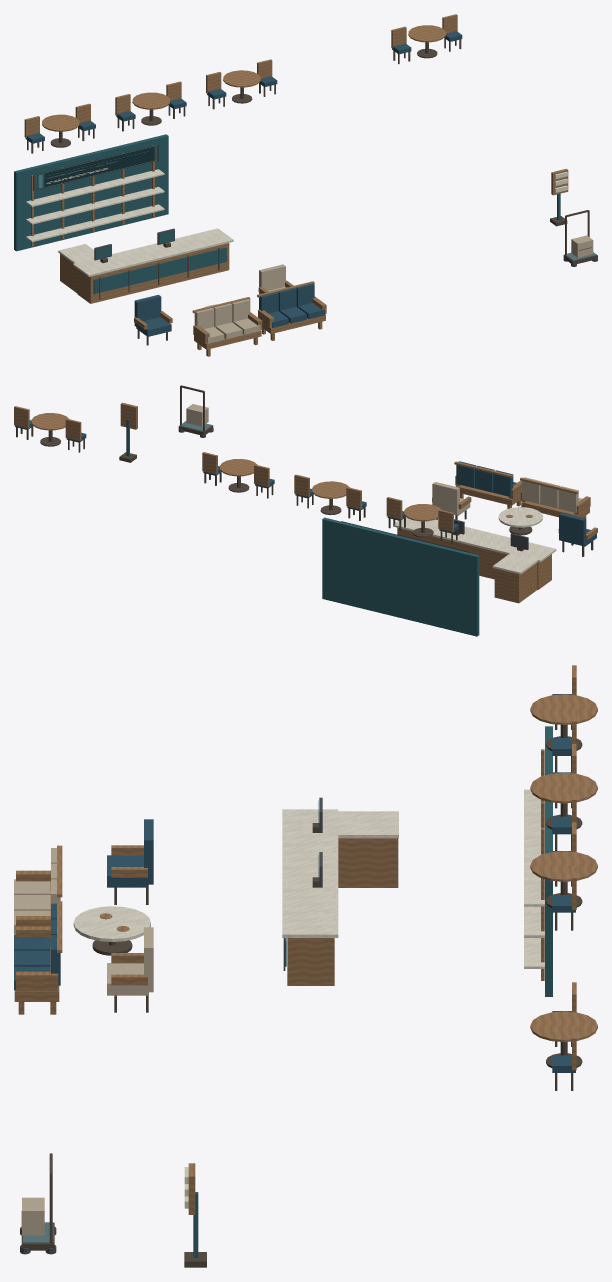
Rendered from PZ_Seaside_Resort_Lobby_Props.glb.
3 renders of one model, top to bottom at view 1: azimuth 30°, elevation 25°; view 2: azimuth 150°, elevation 25°; view 3: azimuth 270°, elevation 25°, orthographic. The views are drawn at different scales.
Parts seen in each view (by area): view 1: RENDER__B02_RECEPTION_BACKBAR_DISPLAY__WallBacker__OceanTeal, RENDER__B01_RECEPTION_DESK_L_MODULAR__MainReceptionCore__Lig, RENDER__B01_RECEPTION_DESK_L_MODULAR__MainReceptionCounterto, RENDER__B02_RECEPTION_BACKBAR_DISPLAY__COVEGLASS_MainBrandPl, RENDER__B01_RECEPTION_DESK_L_MODULAR__CounterFrontInlay__Oce, RENDER__B02_RECEPTION_BACKBAR_DISPLAY__ReceptionShelf_0.72__, RENDER__B02_RECEPTION_BACKBAR_DISPLAY__ReceptionShelf_1.36__, RENDER__B02_RECEPTION_BACKBAR_DISPLAY__ReceptionShelf_2.0__M, RENDER__B01_RECEPTION_DESK_L_MODULAR__ReturnWingCountertop__, RENDER__B05_ACCENT_CHAIR_01__Back__DeepBlueFabric, RENDER__B06_ACCENT_CHAIR_02__Back__SandFabric, RENDER__B08_MEZZ_LOUNGE_TABLE_4__BistroTop__LightOak (+4 smaller); view 2: RENDER__B02_RECEPTION_BACKBAR_DISPLAY__WallBacker__OceanTeal, RENDER__B01_RECEPTION_DESK_L_MODULAR__MainReceptionCounterto, RENDER__B01_RECEPTION_DESK_L_MODULAR__MainReceptionCore__Lig, RENDER__B01_RECEPTION_DESK_L_MODULAR__ReturnWingBody__LightO, RENDER__B01_RECEPTION_DESK_L_MODULAR__ReturnWingCountertop__, RENDER__B05_ACCENT_CHAIR_01__Back__DeepBlueFabric, RENDER__B06_ACCENT_CHAIR_02__Back__SandFabric, RENDER__B07_COFFEE_TABLE_LOW__RoundMarbleTableTop__MarbleCou, RENDER__B08_MEZZ_LOUNGE_TABLE_2__BistroTop__LightOak, RENDER__B08_MEZZ_LOUNGE_TABLE_4__BistroTop__LightOak, RENDER__B08_MEZZ_LOUNGE_TABLE_3__BistroTop__LightOak, RENDER__B08_MEZZ_LOUNGE_TABLE_1__BistroTop__LightOak (+10 smaller); view 3: RENDER__B01_RECEPTION_DESK_L_MODULAR__MainReceptionCounterto, RENDER__B01_RECEPTION_DESK_L_MODULAR__ReturnWingBody__LightO, RENDER__B01_RECEPTION_DESK_L_MODULAR__ReturnWingCountertop__, RENDER__B01_RECEPTION_DESK_L_MODULAR__MainReceptionCore__Lig, RENDER__B07_COFFEE_TABLE_LOW__RoundMarbleTableTop__MarbleCou, RENDER__B02_RECEPTION_BACKBAR_DISPLAY__ReceptionShelf_2.0__M, RENDER__B08_MEZZ_LOUNGE_TABLE_3__BistroTop__LightOak, RENDER__B08_MEZZ_LOUNGE_TABLE_2__BistroTop__LightOak, RENDER__B08_MEZZ_LOUNGE_TABLE_4__BistroTop__LightOak, RENDER__B08_MEZZ_LOUNGE_TABLE_1__BistroTop__LightOak, RENDER__B02_RECEPTION_BACKBAR_DISPLAY__WallBacker__OceanTeal, RENDER__B05_ACCENT_CHAIR_01__Seat__DeepBlueFabric (+3 smaller).
Boxes of the visible parts, x1,y1,x2,y2 form: RENDER__B02_RECEPTION_BACKBAR_DISPLAY__WallBacker__OceanTeal: [14, 134, 168, 251]; RENDER__B01_RECEPTION_DESK_L_MODULAR__MainReceptionCore__Lig: [77, 243, 229, 303]; RENDER__B01_RECEPTION_DESK_L_MODULAR__MainReceptionCounterto: [73, 228, 233, 276]; RENDER__B02_RECEPTION_BACKBAR_DISPLAY__COVEGLASS_MainBrandPl: [33, 144, 158, 190]; RENDER__B01_RECEPTION_DESK_L_MODULAR__CounterFrontInlay__Oce: [93, 247, 226, 294]; RENDER__B02_RECEPTION_BACKBAR_DISPLAY__ReceptionShelf_0.72__: [26, 204, 164, 242]; RENDER__B02_RECEPTION_BACKBAR_DISPLAY__ReceptionShelf_1.36__: [26, 186, 164, 224]; RENDER__B02_RECEPTION_BACKBAR_DISPLAY__ReceptionShelf_2.0__M: [26, 169, 164, 206]; RENDER__B01_RECEPTION_DESK_L_MODULAR__ReturnWingCountertop__: [58, 244, 111, 270]; RENDER__B05_ACCENT_CHAIR_01__Back__DeepBlueFabric: [134, 294, 161, 327]; RENDER__B06_ACCENT_CHAIR_02__Back__SandFabric: [259, 264, 285, 294]; RENDER__B08_MEZZ_LOUNGE_TABLE_4__BistroTop__LightOak: [408, 25, 446, 42]; RENDER__B02_RECEPTION_BACKBAR_DISPLAY__WallBacker__OceanTeal: [322, 517, 479, 636]; RENDER__B01_RECEPTION_DESK_L_MODULAR__MainReceptionCounterto: [393, 517, 556, 562]; RENDER__B01_RECEPTION_DESK_L_MODULAR__MainReceptionCore__Lig: [397, 527, 551, 589]; RENDER__B01_RECEPTION_DESK_L_MODULAR__ReturnWingBody__LightO: [494, 563, 537, 603]; RENDER__B01_RECEPTION_DESK_L_MODULAR__ReturnWingCountertop__: [492, 548, 547, 574]; RENDER__B05_ACCENT_CHAIR_01__Back__DeepBlueFabric: [559, 513, 586, 545]; RENDER__B06_ACCENT_CHAIR_02__Back__SandFabric: [432, 482, 459, 514]; RENDER__B07_COFFEE_TABLE_LOW__RoundMarbleTableTop__MarbleCou: [498, 507, 542, 527]; RENDER__B08_MEZZ_LOUNGE_TABLE_2__BistroTop__LightOak: [312, 481, 349, 498]; RENDER__B08_MEZZ_LOUNGE_TABLE_4__BistroTop__LightOak: [31, 413, 68, 430]; RENDER__B08_MEZZ_LOUNGE_TABLE_3__BistroTop__LightOak: [219, 459, 257, 476]; RENDER__B08_MEZZ_LOUNGE_TABLE_1__BistroTop__LightOak: [404, 504, 441, 521]; RENDER__B01_RECEPTION_DESK_L_MODULAR__MainReceptionCounterto: [282, 809, 338, 937]; RENDER__B01_RECEPTION_DESK_L_MODULAR__ReturnWingBody__LightO: [338, 838, 398, 887]; RENDER__B01_RECEPTION_DESK_L_MODULAR__ReturnWingCountertop__: [303, 811, 398, 838]; RENDER__B01_RECEPTION_DESK_L_MODULAR__MainReceptionCore__Lig: [287, 938, 334, 985]; RENDER__B07_COFFEE_TABLE_LOW__RoundMarbleTableTop__MarbleCou: [73, 906, 150, 941]; RENDER__B02_RECEPTION_BACKBAR_DISPLAY__ReceptionShelf_2.0__M: [524, 789, 544, 906]; RENDER__B08_MEZZ_LOUNGE_TABLE_3__BistroTop__LightOak: [530, 851, 597, 881]; RENDER__B08_MEZZ_LOUNGE_TABLE_2__BistroTop__LightOak: [530, 772, 597, 803]; RENDER__B08_MEZZ_LOUNGE_TABLE_4__BistroTop__LightOak: [530, 1011, 597, 1041]; RENDER__B08_MEZZ_LOUNGE_TABLE_1__BistroTop__LightOak: [530, 694, 597, 724]; RENDER__B02_RECEPTION_BACKBAR_DISPLAY__WallBacker__OceanTeal: [545, 726, 552, 996]; RENDER__B05_ACCENT_CHAIR_01__Seat__DeepBlueFabric: [107, 855, 147, 887].
Size of the model in its own units: 17.25 by 4.69 by 10.86.
9 materials, 8 textured.
